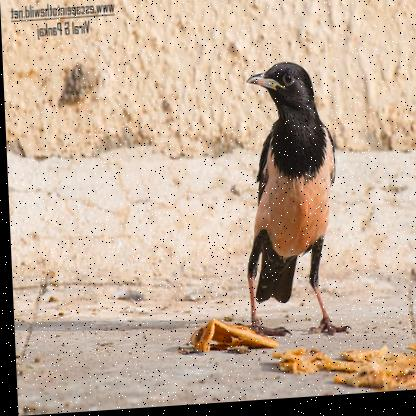Burung: (238, 61, 347, 342)
